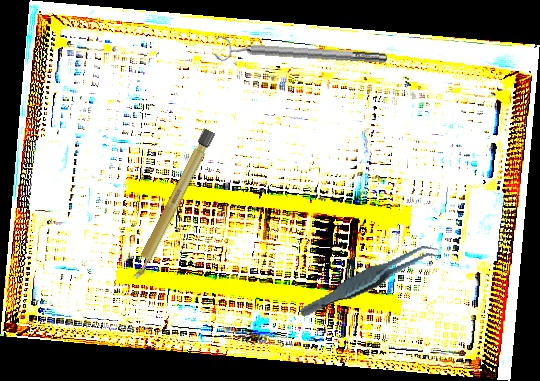Fixation Ring: (213, 33, 388, 74)
Scalpel Handle: (129, 128, 216, 281)
Tissue Forceps: (292, 242, 447, 318)
